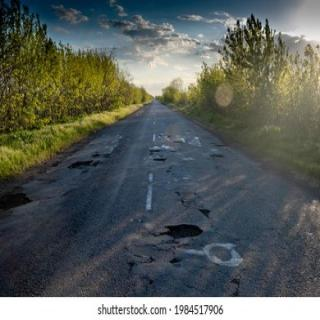pothole: (0, 191, 34, 210), (160, 224, 204, 238), (68, 160, 102, 168)
